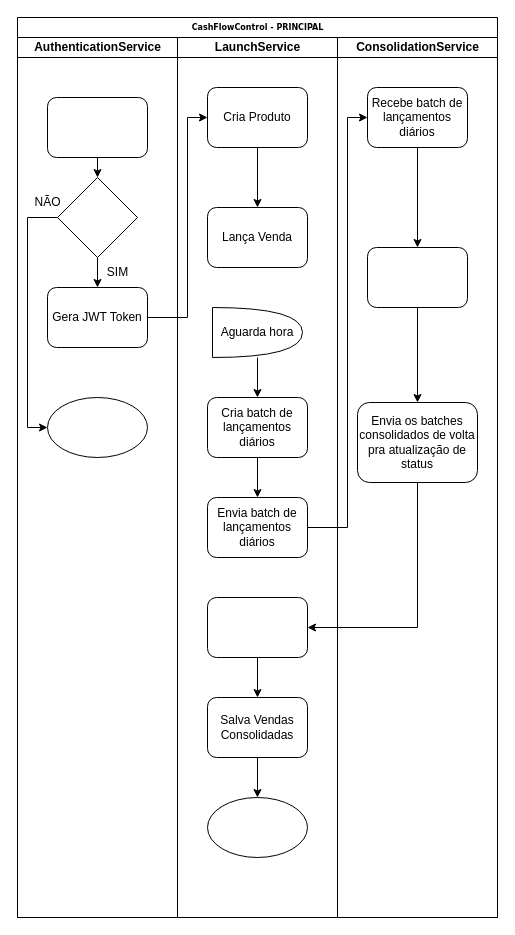
The diagram is 515 pixels wide and 935 high, and some of its shapes have lost their labels. The centre of each missing label's shape, as x and y in pixels:
Consolida Vendas do batch diário: pixel 417 277
Fim do Fluxo: pixel 257 827
Login: pixel 97 127
Login Inválido: pixel 97 427
Recebe os batches consolidados: pixel 257 627
Válido?: pixel 97 217
